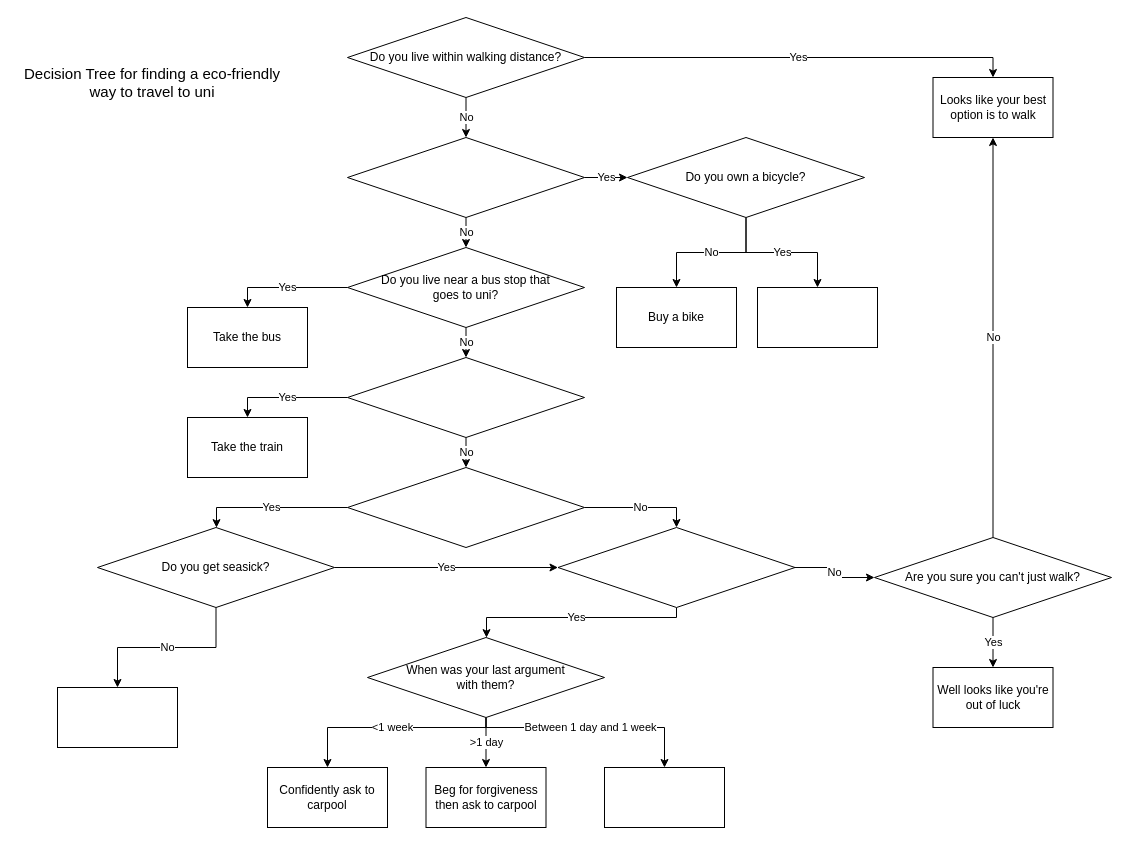
This 1129x845 diagram has some shape labels left out. The centre of each missing label's shape, as x and y in pixels:
Cautiously ask to carpool: (664,797)
Do you have friends who you can carpool with?: (676,567)
Do you live near a ferry?: (465,507)
Do you live near a train station?: (465,397)
Do you live within cycling distance?: (465,177)
Ride your bike: (817,317)
Take the ferry: (117,717)
